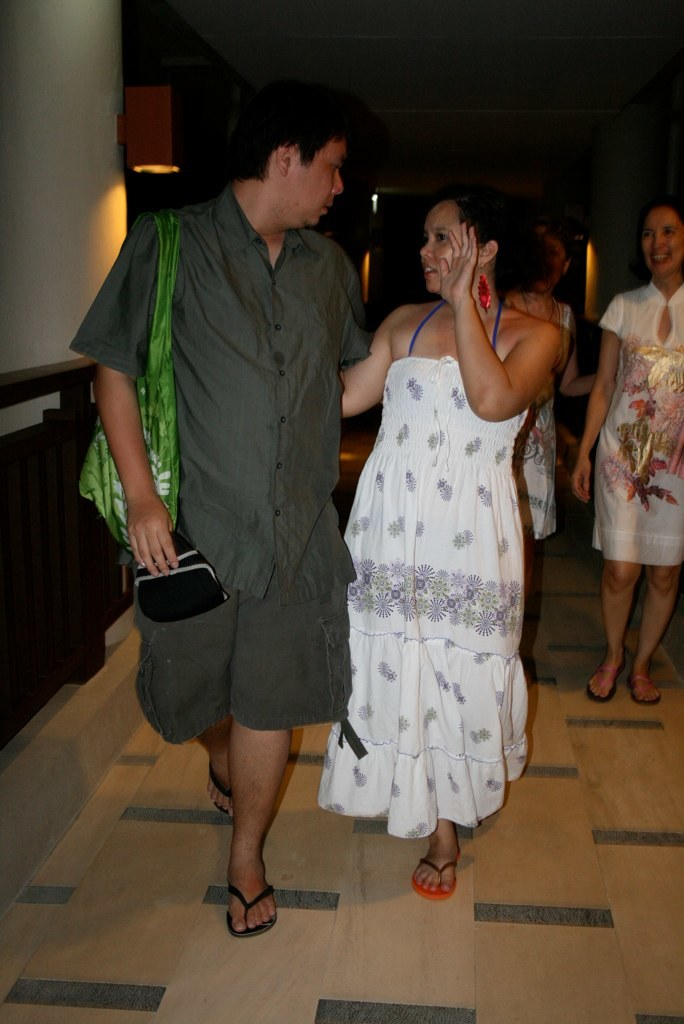Footwear: (215, 876, 288, 944), (409, 859, 458, 900), (587, 660, 624, 703), (210, 768, 235, 827), (629, 675, 663, 705)
